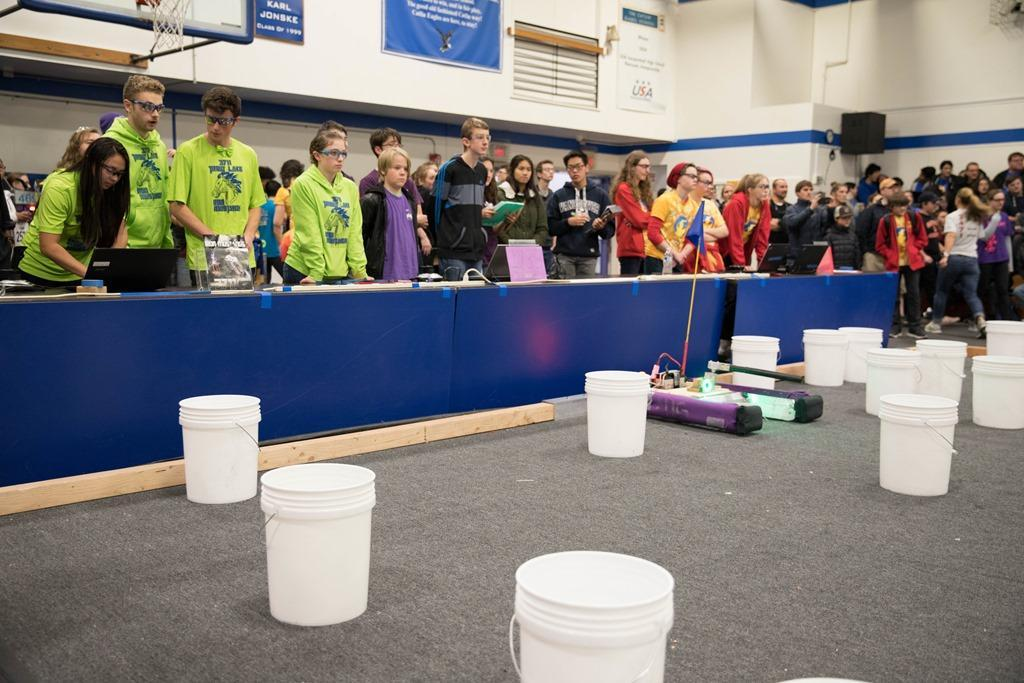robot: (627, 199, 830, 440)
